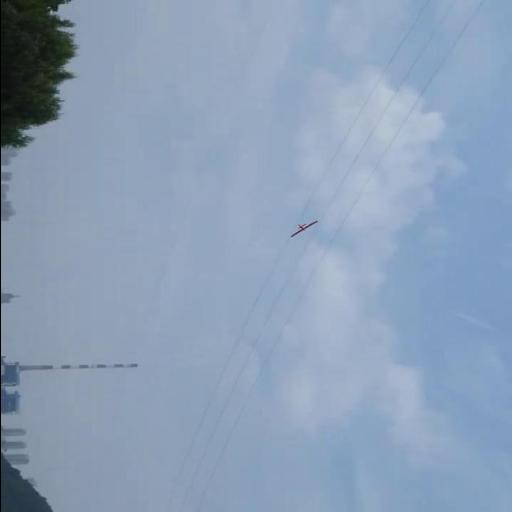uav: (291, 220, 318, 236)
